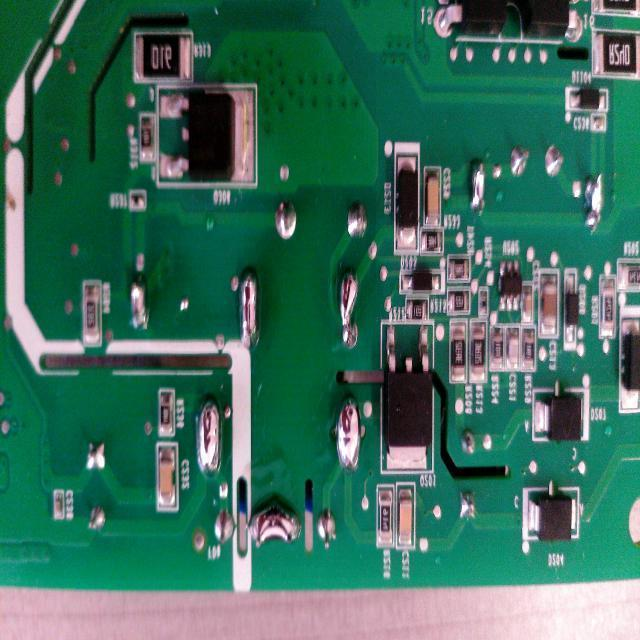Soldering shorted: (328, 391, 364, 475), (246, 500, 303, 548), (193, 392, 223, 478), (234, 260, 261, 352), (335, 268, 361, 350), (582, 163, 604, 230), (128, 272, 151, 334), (466, 153, 486, 215)
